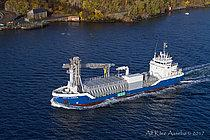Ship: (42, 38, 194, 119)
